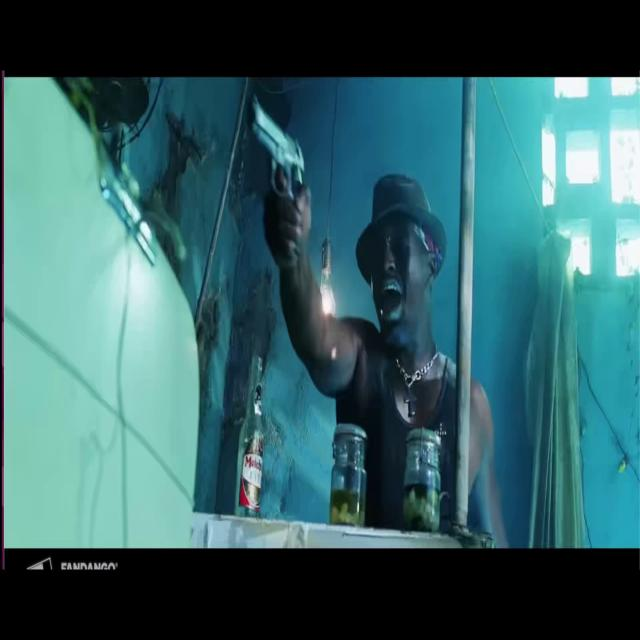weapons: (239, 86, 316, 263)
